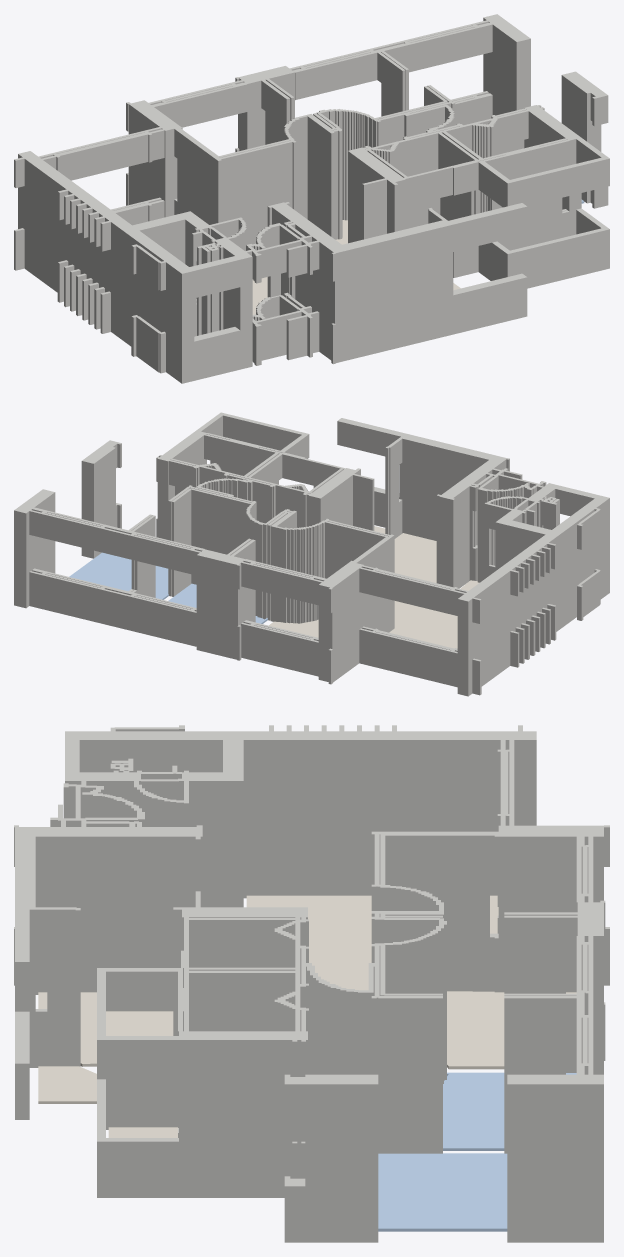
3 views of the same model, one above another, from view 1: azimuth 30°, elevation 25°; view 2: azimuth 150°, elevation 25°; view 3: azimuth 270°, elevation 25° (orthographic). The views are drawn at different scales.
Visible parts, largest first — view 1: walls, room:other:5; view 2: walls, room:other:5, room:bedroom:1, room:other:4, room:bedroom:0; view 3: walls, room:bedroom:1, room:other:5, room:bedroom:0, room:other:4, room:other:7, room:other:8.
Part boxes in pixels (bbox=[...]): walls: bbox=[14, 14, 609, 383]; room:other:5: bbox=[252, 220, 347, 314]; walls: bbox=[14, 412, 609, 696]; room:other:5: bbox=[389, 533, 479, 648]; room:bedroom:1: bbox=[69, 552, 168, 599]; room:other:4: bbox=[269, 619, 318, 637]; room:bedroom:0: bbox=[168, 583, 267, 623]; walls: bbox=[14, 725, 609, 1242]; room:bedroom:1: bbox=[378, 1153, 507, 1231]; room:other:5: bbox=[38, 895, 498, 1066]; room:bedroom:0: bbox=[443, 1072, 576, 1150]; room:other:4: bbox=[447, 991, 576, 1069]; room:other:7: bbox=[38, 1066, 96, 1103]; room:other:8: bbox=[108, 1127, 177, 1137].
Bounding box in the file's own units: 13.63 × 2.8 × 9.56.
